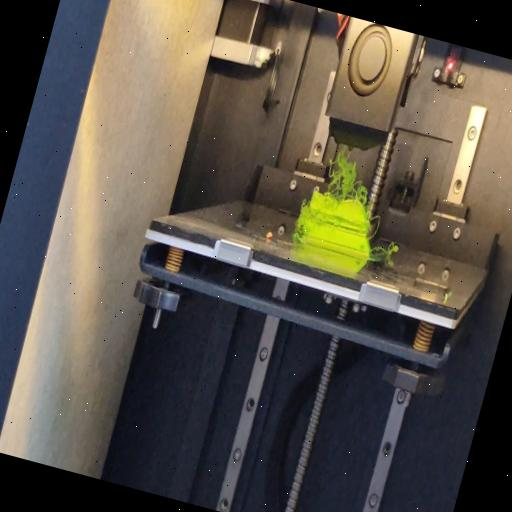spaghetti: (310, 138, 380, 208), (366, 234, 400, 260), (366, 210, 383, 237), (292, 228, 304, 242)
